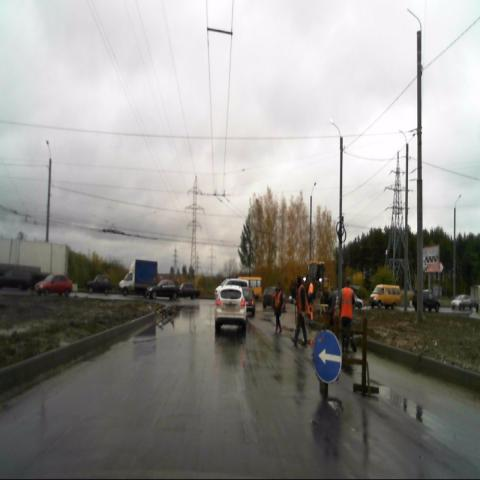4_1_2_2: (311, 328, 342, 386)
